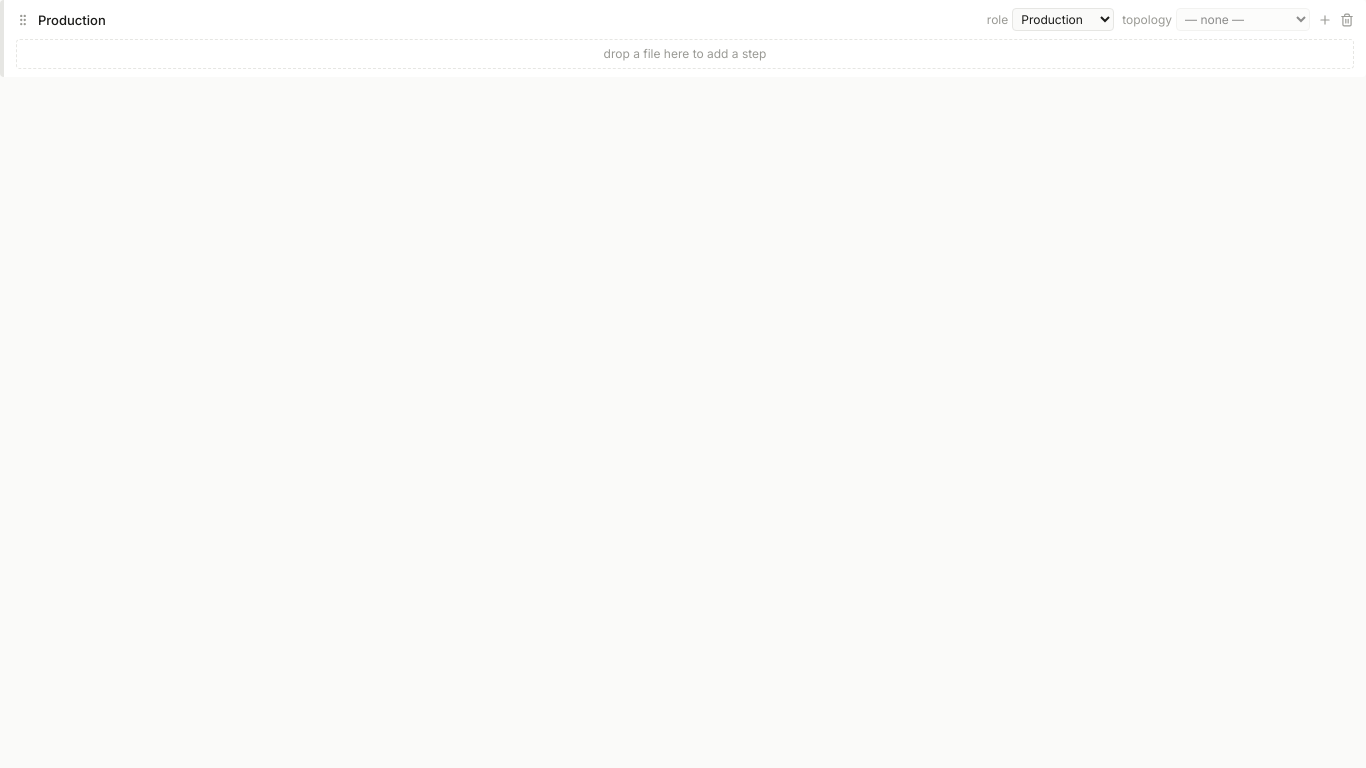
deletes an empty phase without a confirmation and offers to undo it
The image size is (1366, 768).
Click the button named "delete phase Production": coordinates (1347, 20) [1340,12,1354,26]
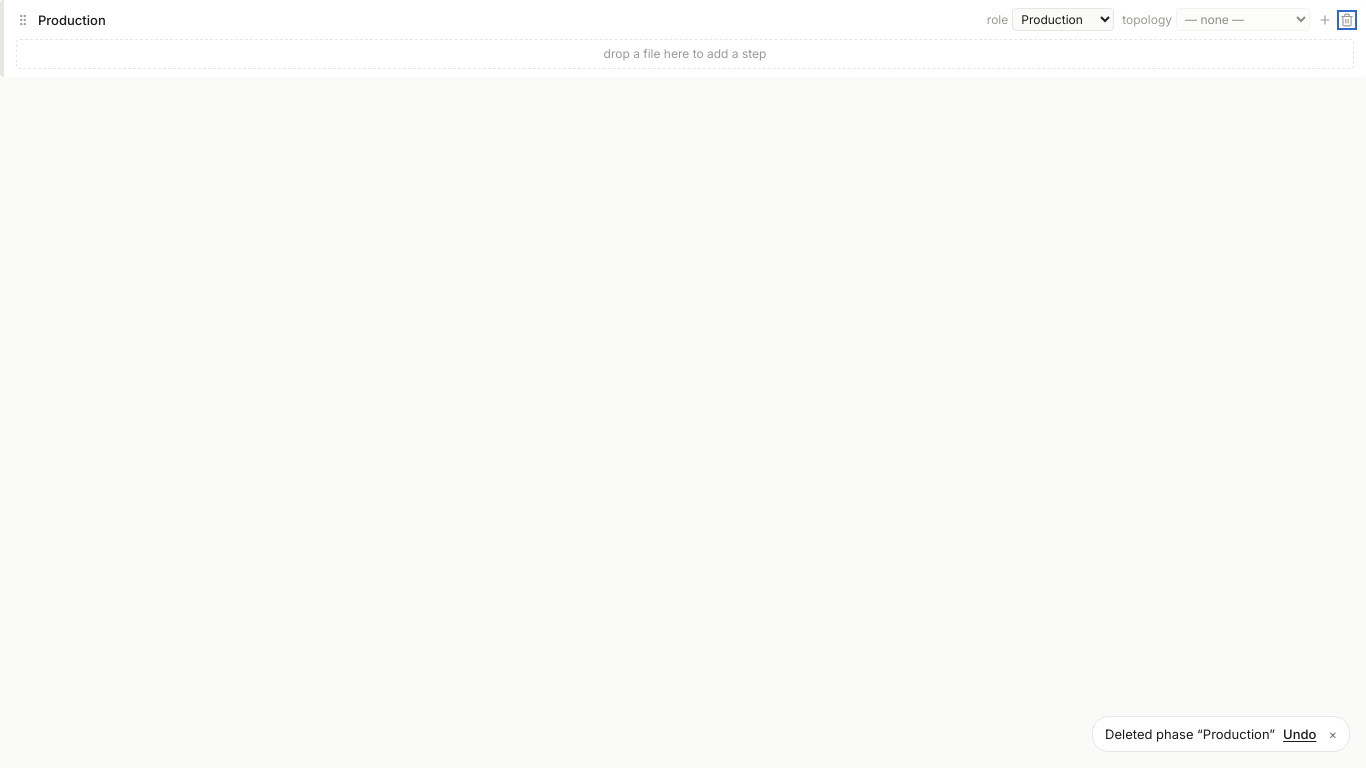
Check: the button "Undo" is shown, box [1283,725,1316,743]
